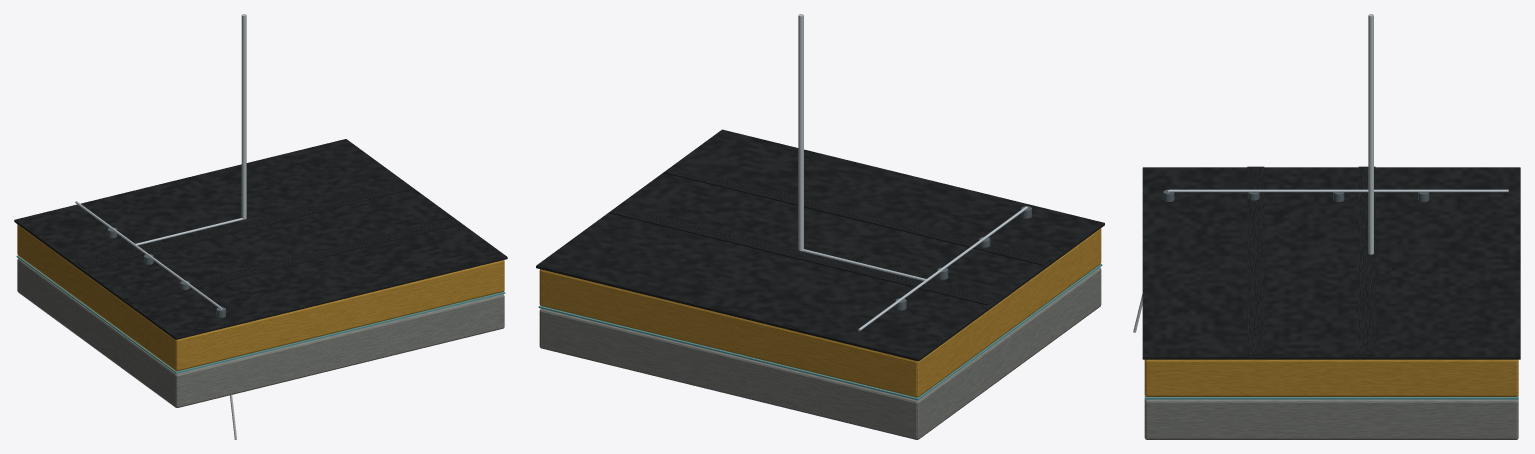
The model's file is modell.glb.
3 views of the same model, side by side, from view 1: azimuth 30°, elevation 25°; view 2: azimuth 150°, elevation 25°; view 3: azimuth 270°, elevation 25° (orthographic). The views are drawn at different scales.
Parts seen in each view (by area): view 1: a04-abdichtung_deckung, a04-untergrund_tragwerk, a04-daemmung_daemmung, a04-naht_deckung, a04-luftdichtheit_luftdichtheit, a04-fangeinrichtung_, a04-ableitung_; view 2: a04-abdichtung_deckung, a04-untergrund_tragwerk, a04-daemmung_daemmung, a04-naht_deckung, a04-luftdichtheit_luftdichtheit, a04-fangeinrichtung_, a04-ableitung_; view 3: a04-abdichtung_deckung, a04-untergrund_tragwerk, a04-daemmung_daemmung, a04-naht_deckung, a04-fangeinrichtung_, a04-ableitung_, a04-luftdichtheit_luftdichtheit, a04-halter_.
Part boxes in pixels (x1,y1,x2,y2): a04-abdichtung_deckung: (14, 139, 507, 339); a04-untergrund_tragwerk: (17, 258, 504, 407); a04-daemmung_daemmung: (17, 224, 504, 371); a04-naht_deckung: (77, 183, 461, 304); a04-luftdichtheit_luftdichtheit: (16, 255, 505, 373); a04-fangeinrichtung_: (241, 14, 246, 219); a04-ableitung_: (75, 201, 243, 308); a04-abdichtung_deckung: (536, 129, 1104, 361); a04-untergrund_tragwerk: (539, 267, 1101, 439); a04-daemmung_daemmung: (539, 228, 1101, 397); a04-naht_deckung: (609, 166, 1051, 305); a04-luftdichtheit_luftdichtheit: (538, 264, 1102, 400); a04-fangeinrichtung_: (798, 14, 803, 250); a04-ableitung_: (801, 206, 1027, 331); a04-abdichtung_deckung: (1142, 167, 1520, 359); a04-untergrund_tragwerk: (1144, 399, 1518, 439); a04-daemmung_daemmung: (1144, 359, 1518, 396); a04-naht_deckung: (1247, 166, 1375, 355); a04-fangeinrichtung_: (1368, 14, 1373, 254); a04-ableitung_: (1169, 189, 1508, 192); a04-luftdichtheit_luftdichtheit: (1144, 395, 1518, 399); a04-halter_: (1163, 189, 1429, 201).
Size of the model in its own units: 2.22 by 2.07 by 1.92.
6 materials, 3 textured.
